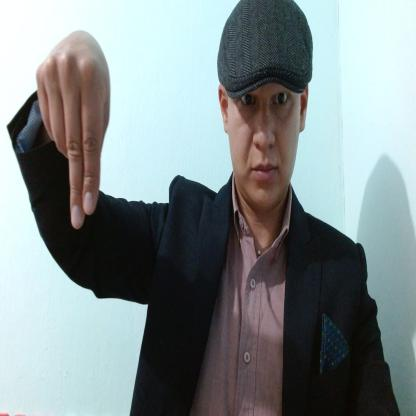N: (37, 30, 112, 227)
